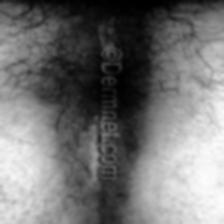Non-Cancerous Skin Condition: (30, 16, 159, 224)
